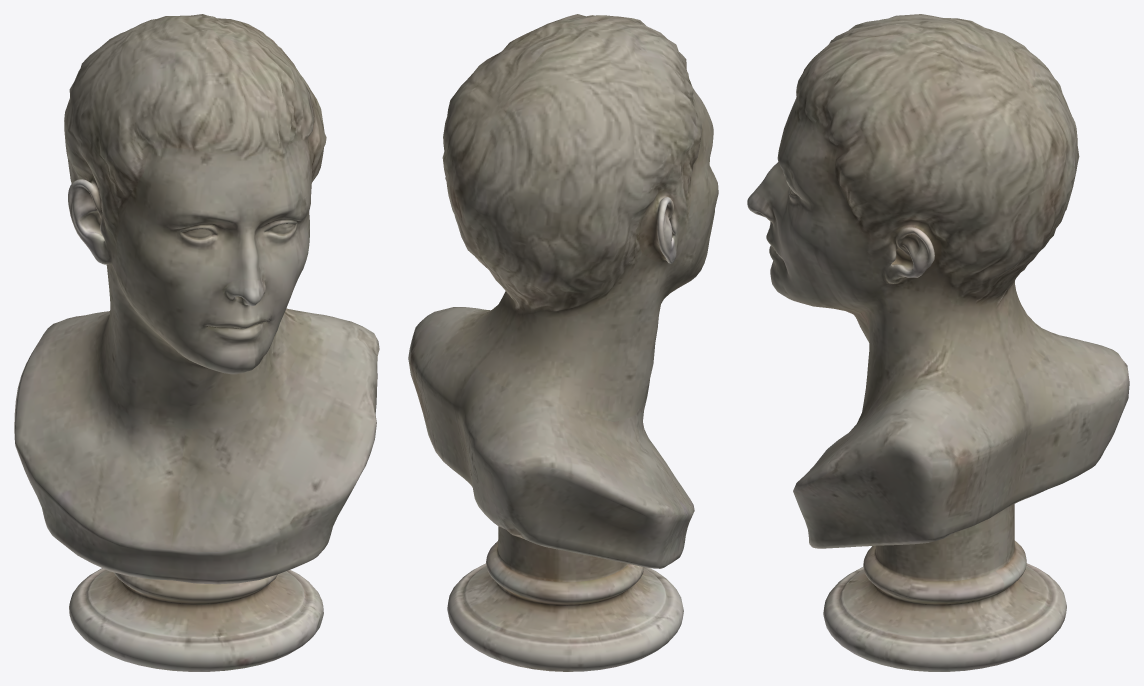
File: marble_bust_01.glb
3 renders of one model, left to right at view 1: azimuth 30°, elevation 25°; view 2: azimuth 150°, elevation 25°; view 3: azimuth 270°, elevation 25°, orthographic. The views are drawn at different scales.
Parts seen in each view (by area): view 1: marble_bust_01; view 2: marble_bust_01; view 3: marble_bust_01.
Part boxes in pixels (x1,y1,x2,y2): marble_bust_01: (14,14,379,671); marble_bust_01: (408,14,718,671); marble_bust_01: (747,14,1129,671).
Size of the model in its own units: 0.2718 by 0.5149 by 0.2997.
Materials: 1 (1 with a texture image).
